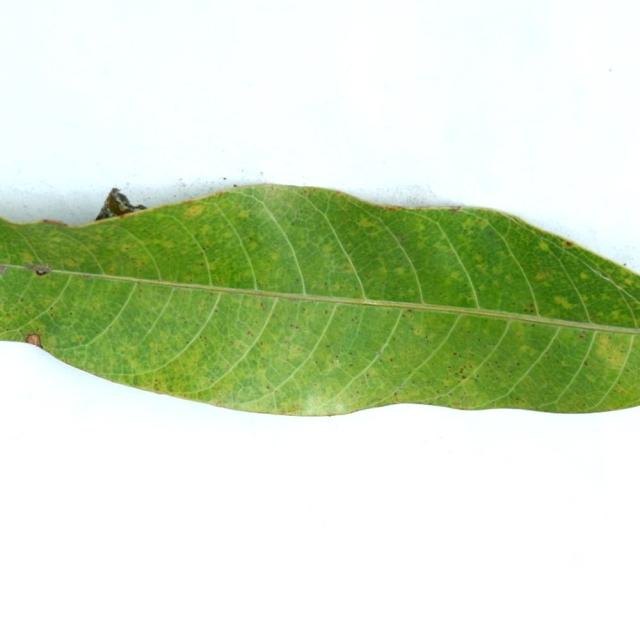Mango: (0, 185, 639, 415)
Powdery_Mildew: (143, 230, 193, 260), (589, 332, 628, 363), (143, 279, 227, 293), (399, 317, 430, 340), (311, 345, 337, 372), (530, 236, 555, 257), (322, 188, 362, 201), (198, 187, 237, 200), (459, 217, 485, 234), (450, 363, 474, 381), (235, 383, 258, 400), (552, 295, 575, 309), (287, 343, 306, 358), (245, 238, 261, 255), (631, 290, 640, 320), (184, 204, 205, 216), (609, 309, 627, 322), (518, 343, 537, 355), (266, 251, 282, 264), (377, 204, 406, 211), (357, 218, 375, 229), (19, 253, 37, 264), (392, 266, 409, 277), (535, 271, 552, 281), (449, 270, 463, 282), (236, 209, 251, 220), (290, 215, 305, 226), (473, 254, 486, 265), (522, 302, 535, 313), (373, 349, 384, 360), (474, 283, 487, 292), (289, 403, 301, 412), (212, 397, 224, 406), (0, 264, 9, 275), (579, 272, 591, 280), (299, 187, 311, 195), (395, 234, 407, 242), (448, 206, 461, 212), (332, 283, 341, 291), (246, 329, 254, 337), (62, 357, 71, 364), (107, 267, 116, 273), (564, 240, 573, 246), (344, 264, 352, 270), (616, 386, 624, 392), (290, 323, 298, 329), (268, 185, 276, 191), (260, 301, 265, 310), (583, 360, 590, 366), (579, 332, 585, 339), (398, 384, 404, 390), (326, 413, 335, 417), (154, 379, 159, 386), (407, 308, 414, 313), (229, 340, 234, 346), (202, 336, 208, 341), (393, 391, 398, 397), (35, 328, 41, 333), (210, 378, 215, 383), (448, 392, 453, 397), (79, 337, 83, 342), (389, 357, 393, 362), (453, 352, 458, 356), (366, 373, 370, 378), (516, 362, 520, 366), (214, 308, 218, 312), (324, 310, 328, 314), (295, 278, 299, 282), (349, 351, 352, 355), (531, 323, 535, 326), (139, 289, 143, 292), (50, 307, 54, 310), (624, 263, 628, 266)
